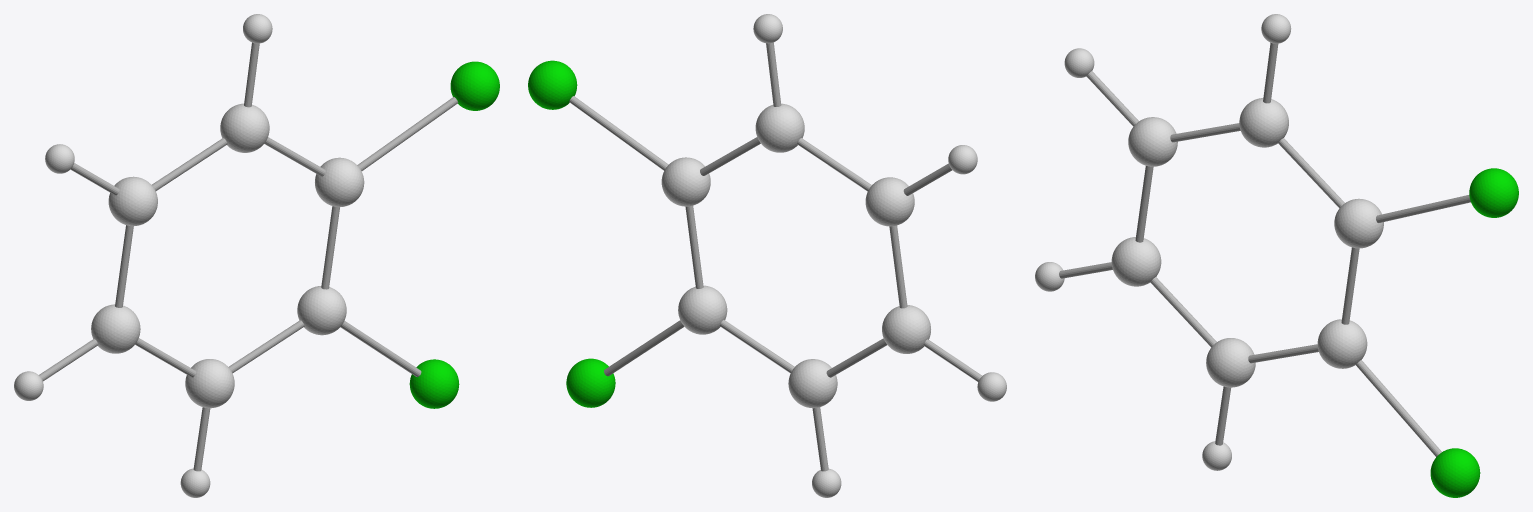
Rendered from Clc1ccccc1Cl.glb.
3 renders of one model, left to right at view 1: azimuth 30°, elevation 25°; view 2: azimuth 150°, elevation 25°; view 3: azimuth 330°, elevation 25°, orthographic.
Parts seen in each view (by area): view 1: world; view 2: world; view 3: world.
Part boxes in pixels (x1,y1,x2,y2): world: (14,14,499,497); world: (528,14,1006,497); world: (1035,14,1518,497).
Bounding box in the file's own units: 5.58 × 5.21 × 0.537.
